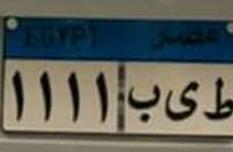1: (91, 70, 111, 125), (65, 70, 84, 123), (11, 69, 29, 122), (38, 68, 55, 123)
Taa: (204, 75, 233, 130)
baa: (126, 80, 161, 125)
yaa: (163, 78, 201, 124)
